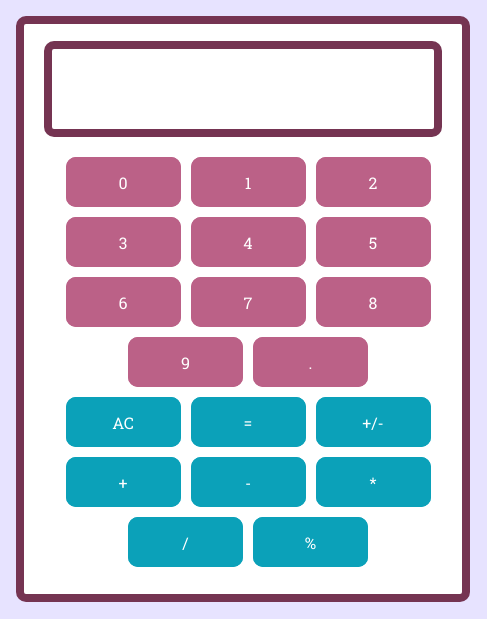
Test: adding two numbers correctly
The image size is (487, 619).
Click the button "2". click: {"x": 373, "y": 182}
box: [316,157,430,207]
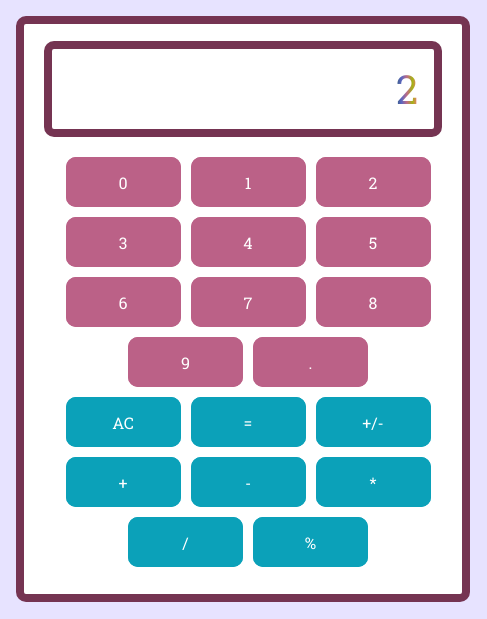
Click the button "+". click: {"x": 123, "y": 482}
box: [66,457,180,507]
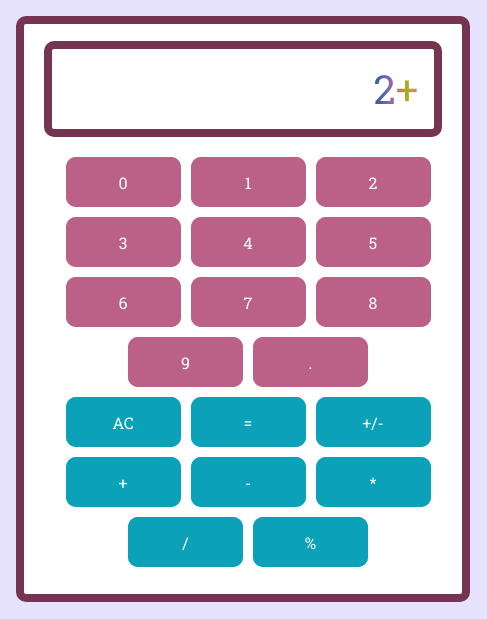
Click the button "3". click: {"x": 123, "y": 242}
box: [66,217,180,267]
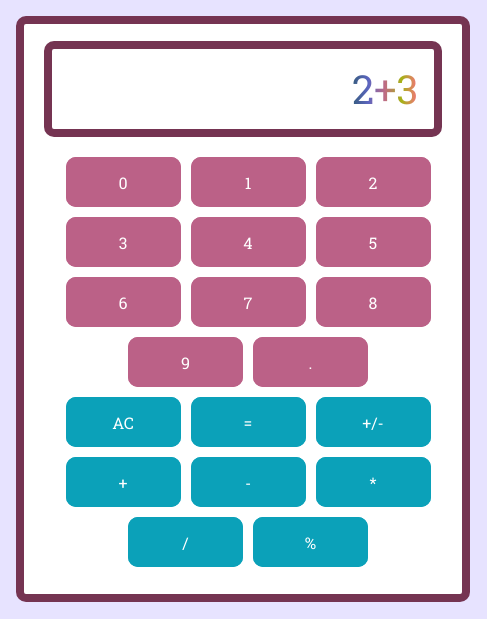
Click the button "=". click: {"x": 248, "y": 422}
box: [190,397,306,447]
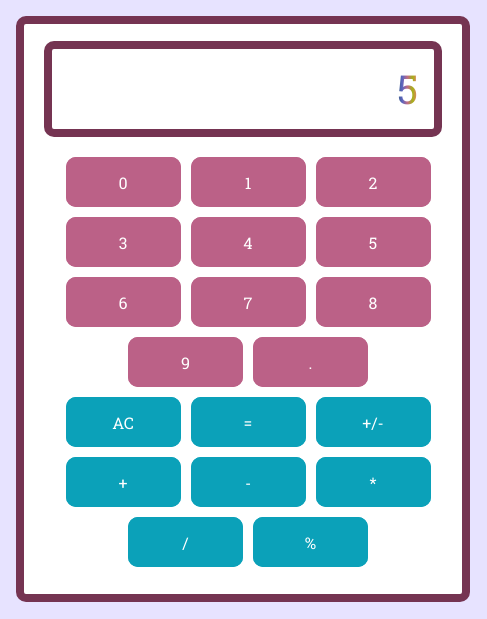
Expected: the element with test id "output" reads "5", [397,62,418,115]
